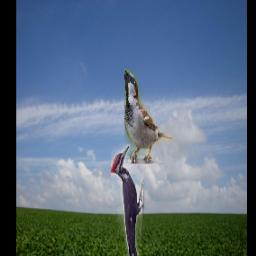Sparrow: (124, 70, 173, 165)
Woodpecker: (110, 144, 143, 256)
